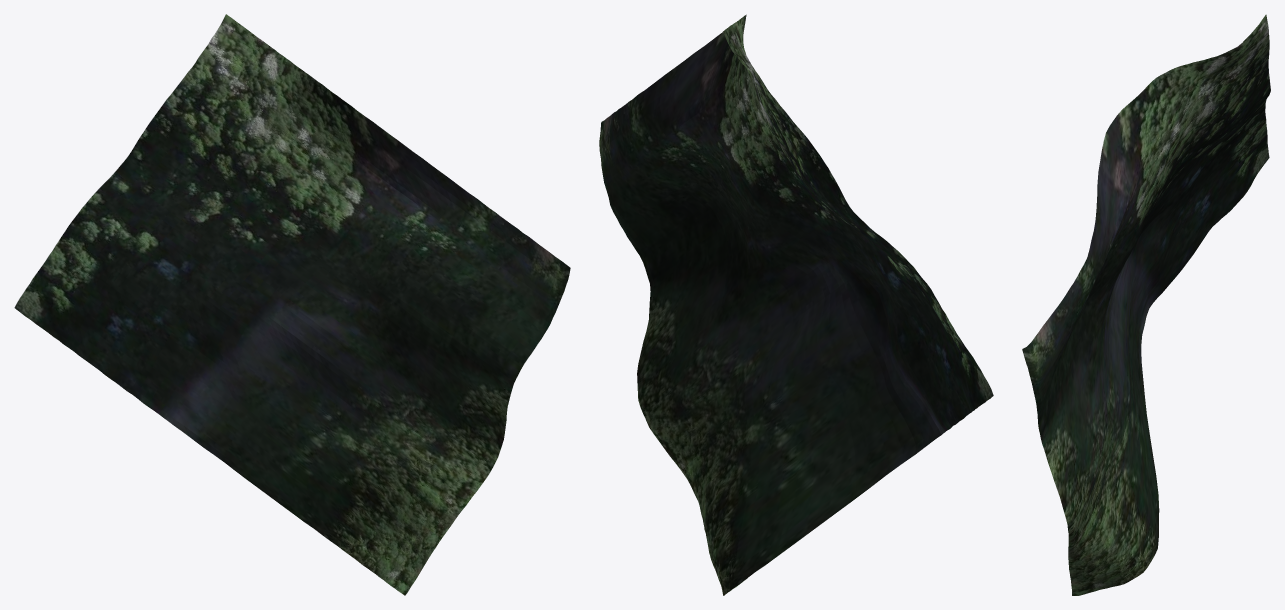
3 renders of one model, left to right at view 1: azimuth 30°, elevation 25°; view 2: azimuth 150°, elevation 25°; view 3: azimuth 270°, elevation 25°, orthographic. The views are drawn at different scales.
Bounding box in the file's own units: 390 × 457 × 190.
Materials: 1 (1 with a texture image).
